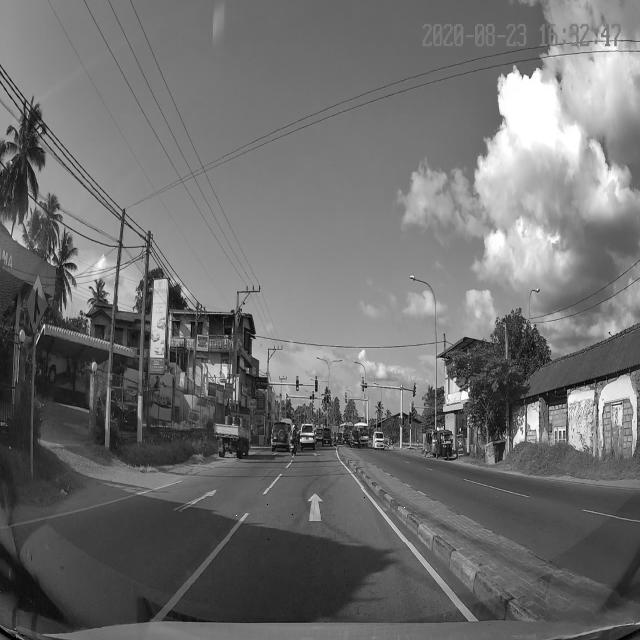forward: (230, 488, 410, 542)
